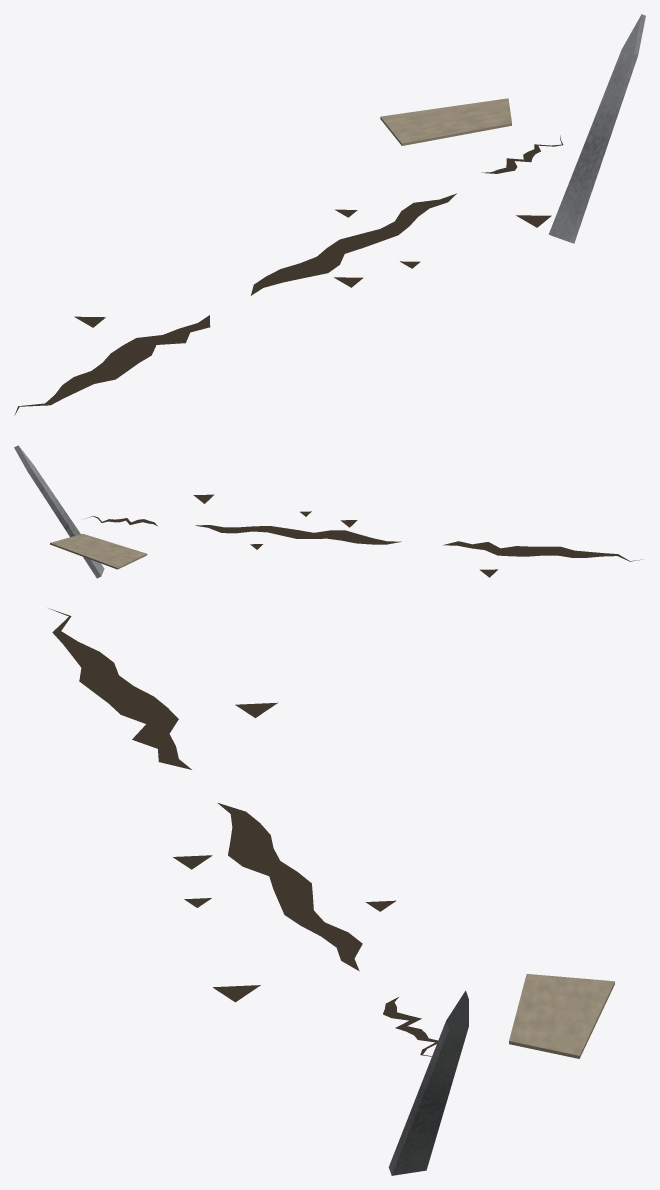
File: trace_hellagur.glb
3 views of the same model, one above another, from view 1: azimuth 30°, elevation 25°; view 2: azimuth 150°, elevation 25°; view 3: azimuth 270°, elevation 25° (orthographic). The views are drawn at different scales.
Parts seen in each view (by area): view 1: trace_hellagur; view 2: trace_hellagur; view 3: trace_hellagur.
Part boxes in pixels (x1,y1,x2,y2): trace_hellagur: (14,14,645,415); trace_hellagur: (14,445,643,578); trace_hellagur: (48,608,614,1175).
Bounding box in the file's own units: 1.38 × 0.3094 × 0.6455.
3 materials, 3 textured.
